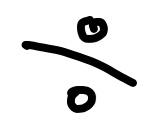div: (20, 12, 137, 109)
